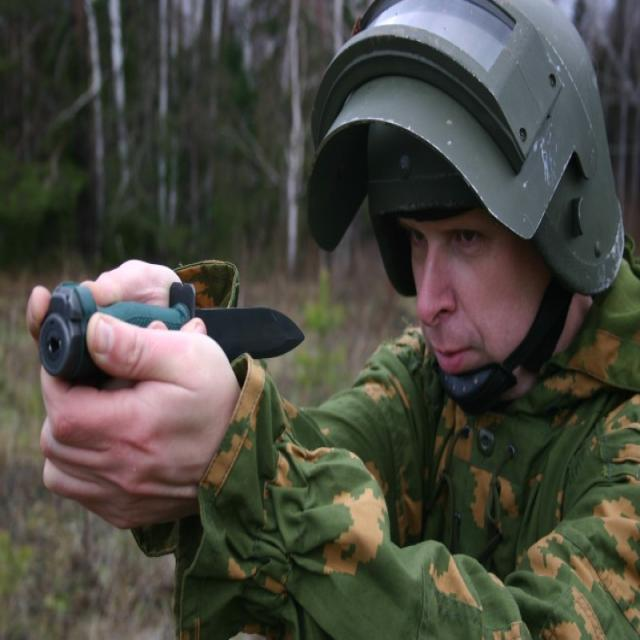knife: (40, 280, 306, 365)
